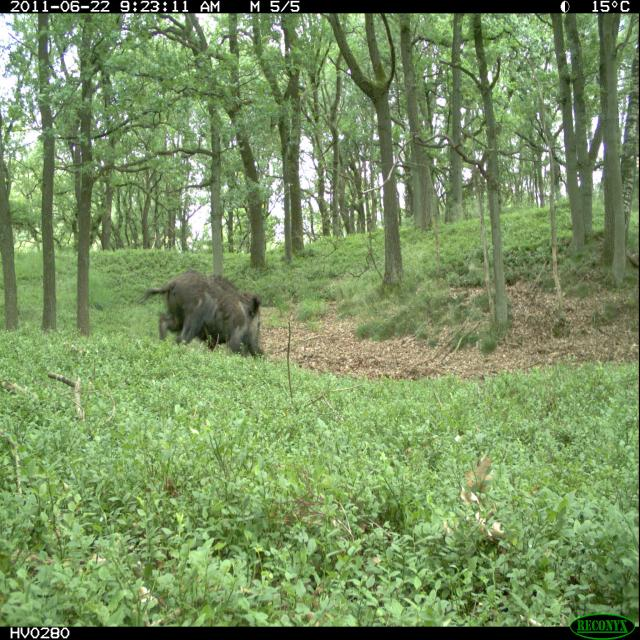boar: (143, 252, 286, 378)
